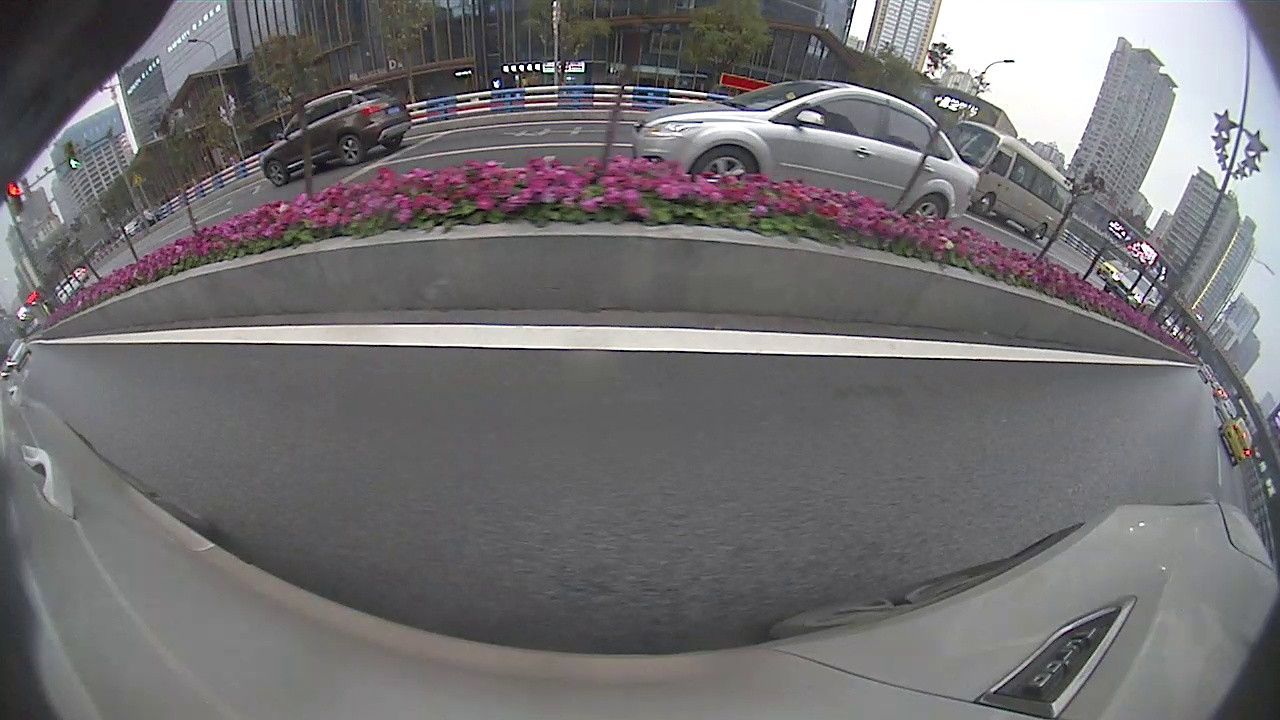car: (632, 79, 982, 220), (1218, 416, 1254, 468)
front: (684, 145, 762, 182), (264, 158, 291, 187)
rear: (906, 189, 952, 220), (338, 133, 365, 165)
